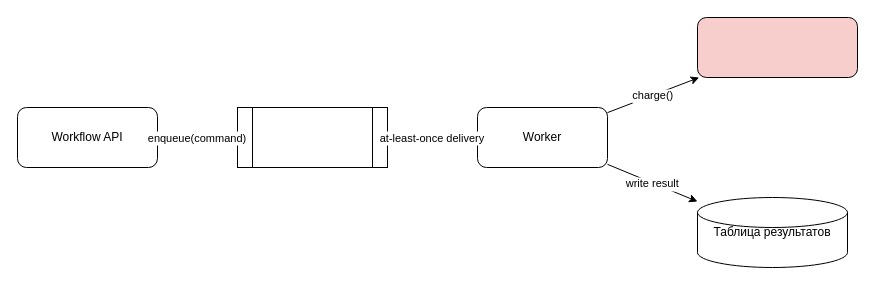
Some shapes in this 875 by 285 pixel diagram are drawn without their labels. Each missing label, with the centre of its shape:
Внешний платёжный API: point 777,47
Очередь команд: point 312,137
